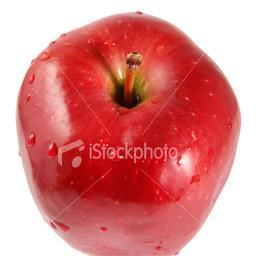apple: (15, 11, 238, 255)
